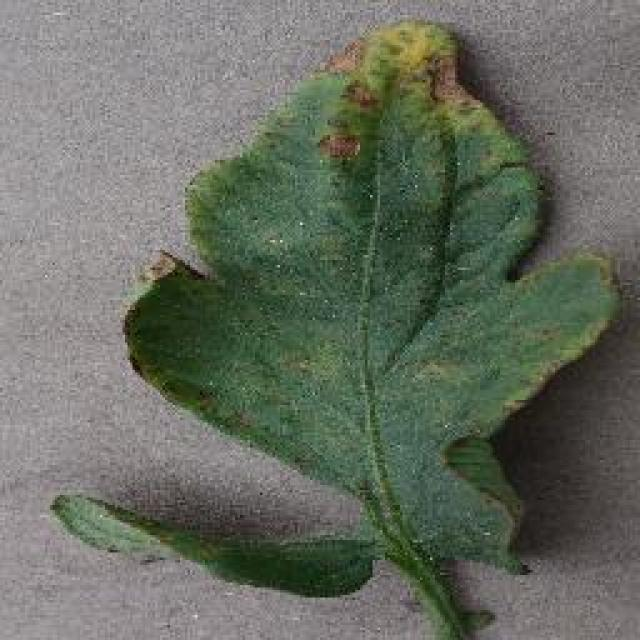Tomato bacterial spot leaf: (112, 12, 630, 593)
